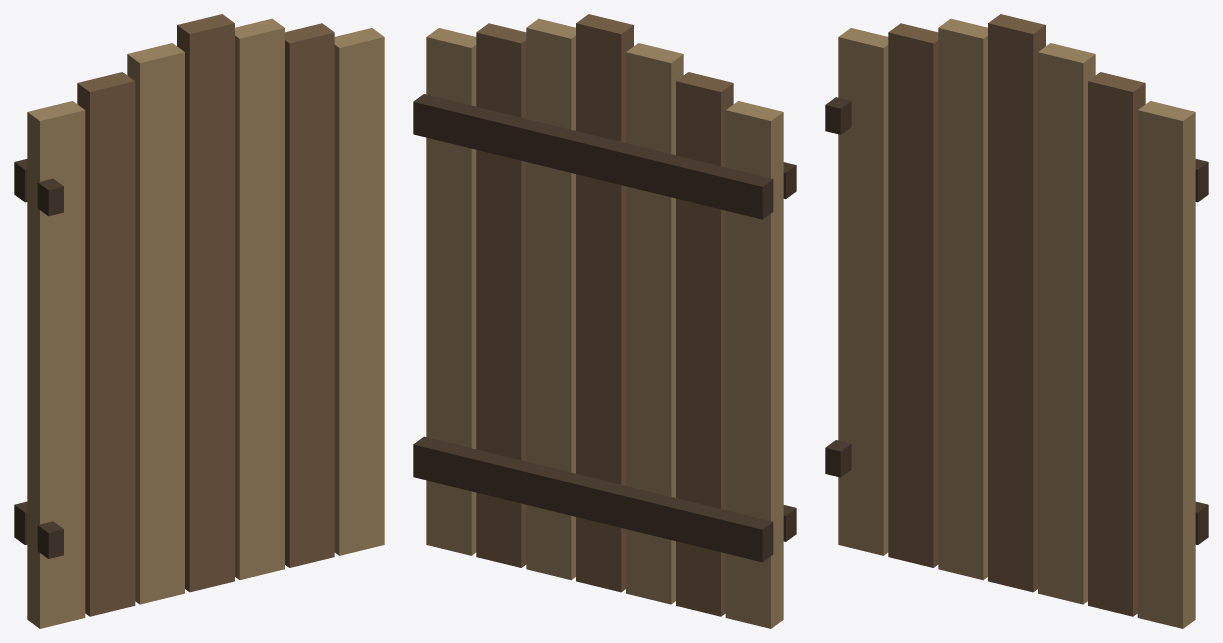
Rendered from TW_WOOD_GATE_LEAF_B_LOD0.glb.
3 views of the same model, side by side, from view 1: azimuth 30°, elevation 25°; view 2: azimuth 150°, elevation 25°; view 3: azimuth 330°, elevation 25° (orthographic).
Parts seen in each view (by area): view 1: TW_WOOD_GATE_LEAF_B_LOD0; view 2: TW_WOOD_GATE_LEAF_B_LOD0; view 3: TW_WOOD_GATE_LEAF_B_LOD0.
Part boxes in pixels (x1=…): TW_WOOD_GATE_LEAF_B_LOD0: x1=14, y1=14, x2=384, y2=628; TW_WOOD_GATE_LEAF_B_LOD0: x1=413, y1=14, x2=796, y2=628; TW_WOOD_GATE_LEAF_B_LOD0: x1=825, y1=14, x2=1208, y2=628.
Size of the model in its own units: 1.12 by 1.71 by 0.19.
1 material, 1 textured.
